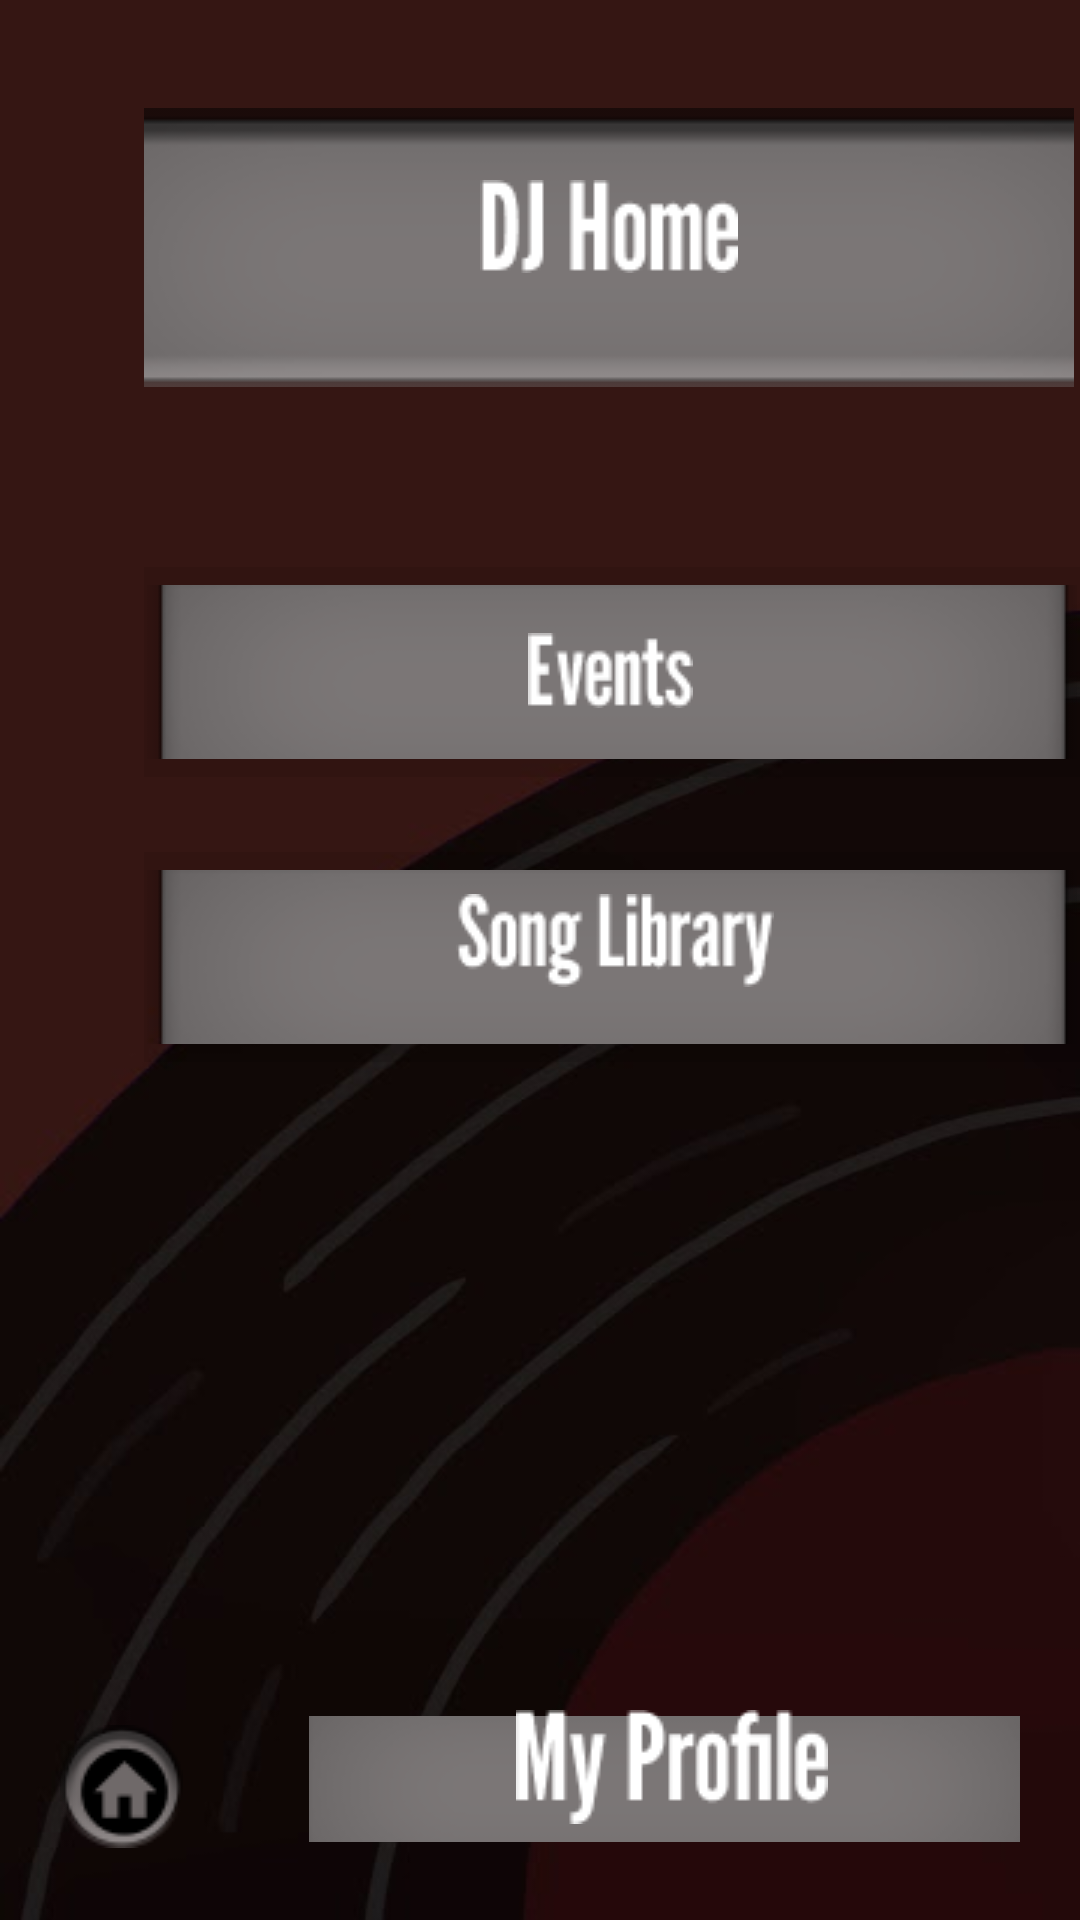

Where to tap for icons on this 1080 × 1920 app screen, as (x,y):
home circle: (124,1792)
